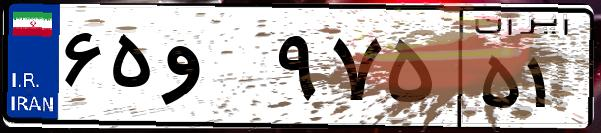1: (525, 38, 570, 115)
5: (385, 28, 445, 110), (475, 38, 525, 113), (110, 28, 158, 98)
6: (57, 26, 110, 100)
7: (330, 28, 385, 110)
9: (270, 28, 330, 110)
و: (158, 20, 270, 120)
